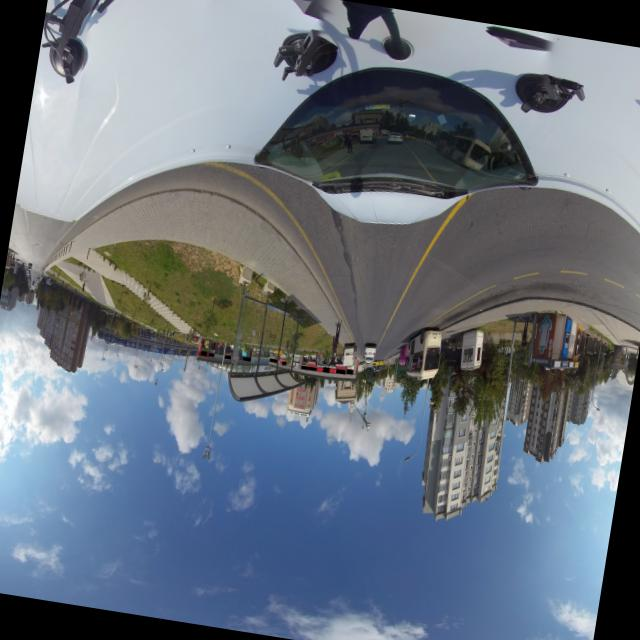SignStore: (335, 368, 345, 372), (300, 364, 308, 369), (322, 366, 329, 371), (242, 356, 250, 360), (308, 366, 316, 370), (346, 368, 352, 373), (200, 350, 206, 355), (224, 354, 230, 358), (208, 352, 213, 356), (268, 357, 273, 361), (281, 360, 285, 364), (273, 358, 276, 362)
